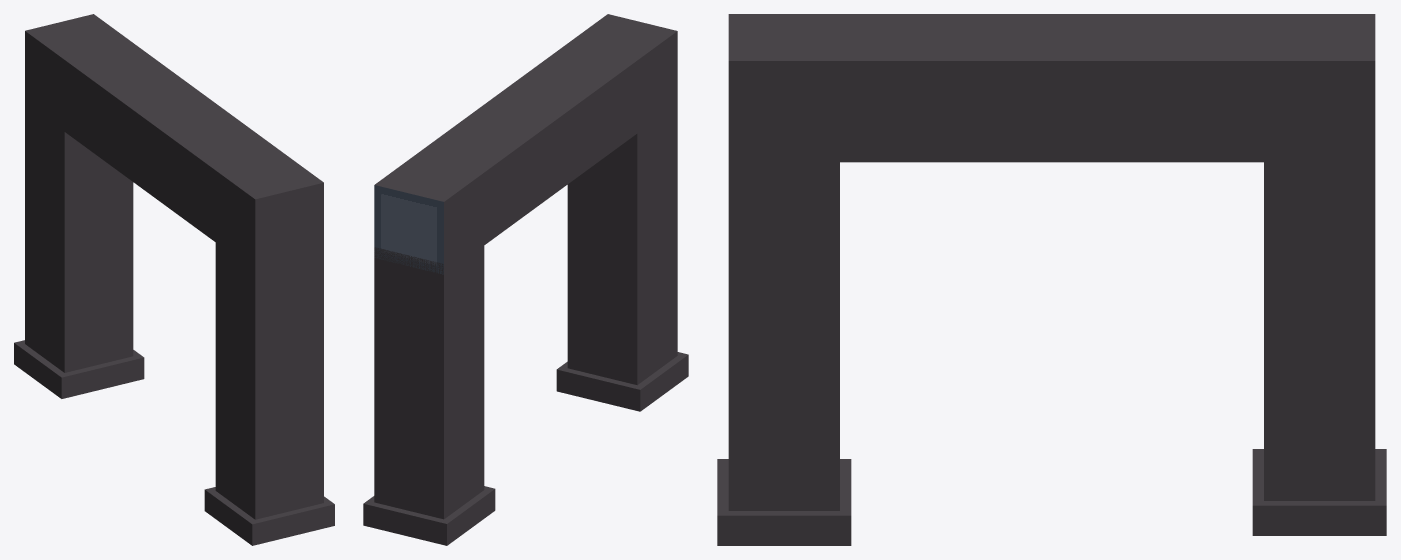
The model's file is door1.gltf.
The picture shows the model from 3 angles, left to right: view 1: azimuth 30°, elevation 25°; view 2: azimuth 150°, elevation 25°; view 3: azimuth 270°, elevation 25°; orthographic projection. The views are drawn at different scales.
Visible parts, largest first — view 1: mesh (×5); view 2: mesh (×5); view 3: mesh (×5).
Part boxes in pixels (x1,y1,x2,y2): mesh (×5): (14, 14, 334, 545); mesh (×5): (363, 14, 688, 545); mesh (×5): (717, 14, 1386, 545).
Size of the model in its own units: 0.75 by 2.97 by 3.75.
